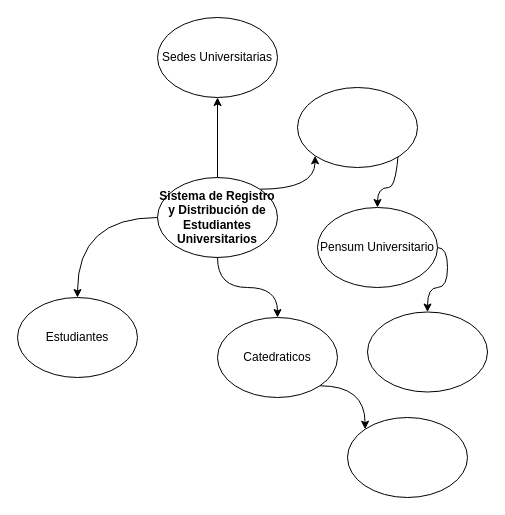
Some shapes in this 505 by 515 pixel diagram are drawn without their labels. Each missing label, with the box of its shape:
Cursos: (366, 311, 488, 392)
Facultades: (296, 86, 418, 168)
Profesión: (346, 416, 468, 498)
